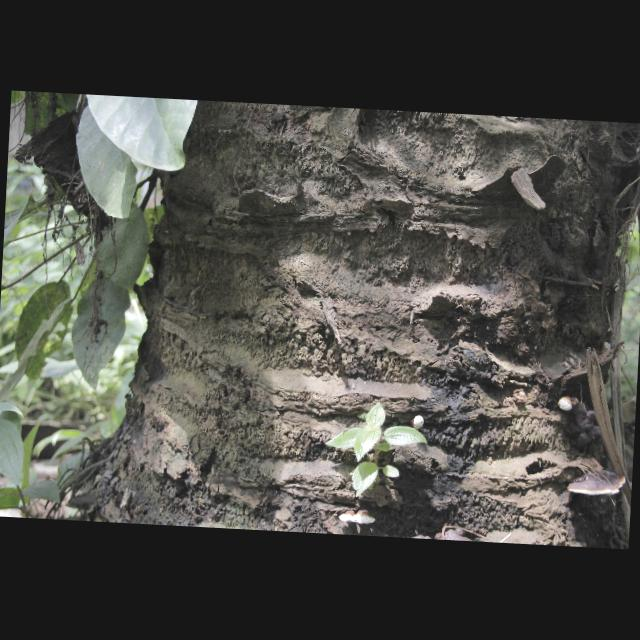ganoderma: (567, 468, 627, 499), (572, 399, 604, 450), (339, 510, 377, 527)
primordium: (558, 397, 575, 413), (412, 417, 426, 433)
